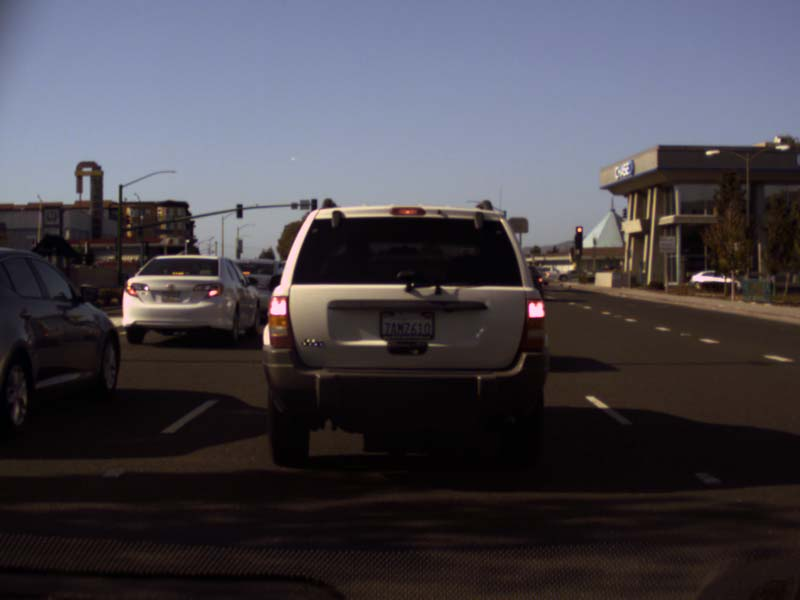Red: (575, 226, 582, 242)
